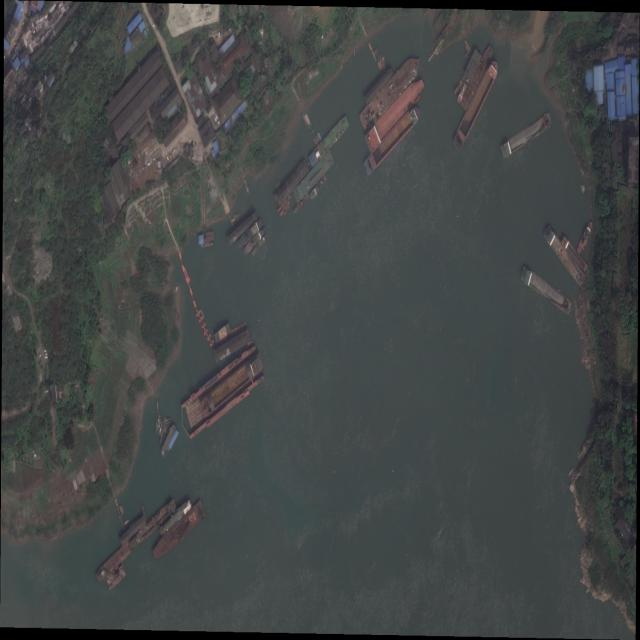ship: (359, 52, 420, 134), (365, 75, 425, 152), (201, 351, 265, 419), (453, 60, 500, 152), (363, 105, 422, 175), (152, 499, 206, 562), (544, 225, 586, 287), (521, 266, 572, 316), (501, 111, 551, 159), (461, 44, 495, 111), (310, 115, 350, 167), (95, 536, 138, 584), (294, 152, 335, 202), (135, 499, 177, 545), (275, 160, 309, 207), (160, 499, 192, 537), (227, 212, 257, 246), (562, 235, 588, 273), (238, 219, 263, 250), (244, 228, 266, 256), (577, 220, 593, 255), (311, 176, 328, 201), (293, 193, 310, 216), (252, 236, 266, 257)
